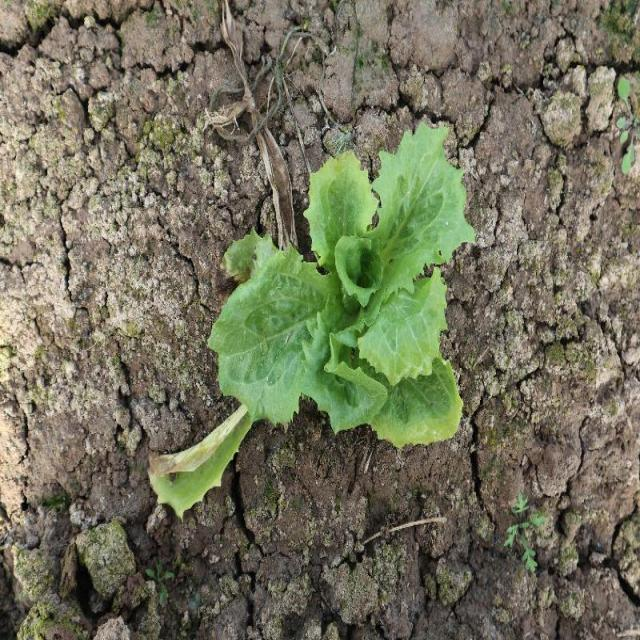crop: (210, 124, 469, 448)
